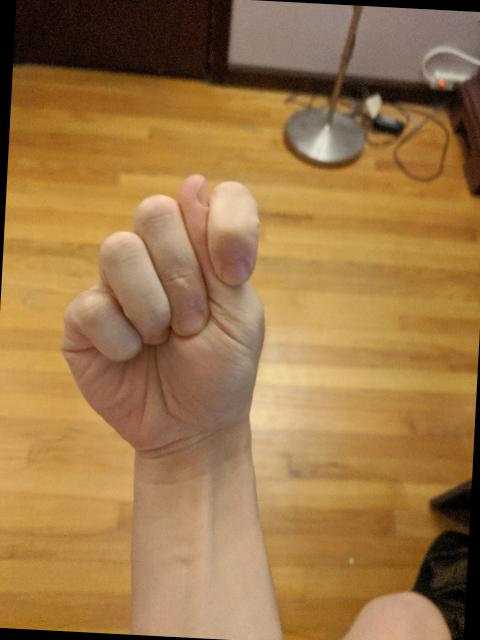T: (52, 164, 278, 463)
